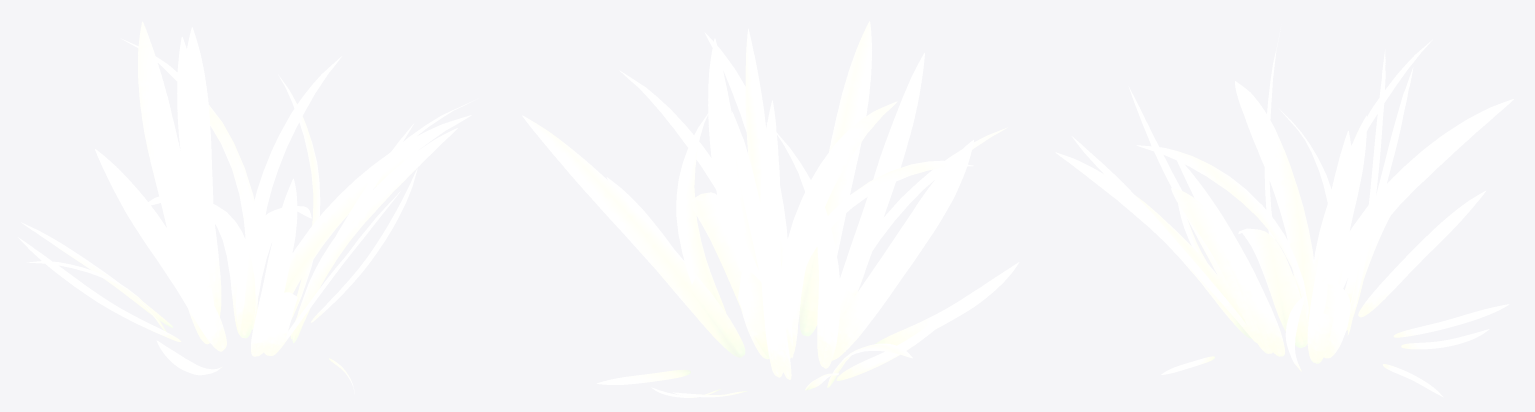
3 renders of one model, left to right at view 1: azimuth 30°, elevation 25°; view 2: azimuth 150°, elevation 25°; view 3: azimuth 270°, elevation 25°, orthographic. The views are drawn at different scales.
Visible parts, largest first — view 1: SM_BM_SwampGrass_03_LOD0; view 2: SM_BM_SwampGrass_03_LOD0; view 3: SM_BM_SwampGrass_03_LOD0.
Boxes of the visible parts, left/top/right/bottom form: SM_BM_SwampGrass_03_LOD0: left=18, top=21, right=474, bottom=393; SM_BM_SwampGrass_03_LOD0: left=522, top=21, right=1019, bottom=397; SM_BM_SwampGrass_03_LOD0: left=1055, top=29, right=1513, bottom=397.
Size of the model in its own units: 1.19 by 0.7586 by 1.06.
Materials: 1 (1 with a texture image).
